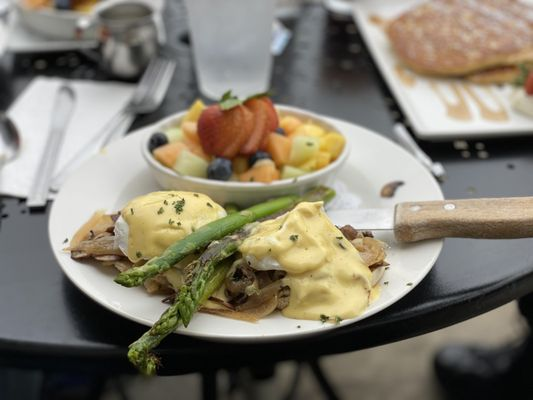pizza: (182, 0, 276, 104)
soup: (390, 0, 533, 88)
sushi: (141, 94, 350, 208)
